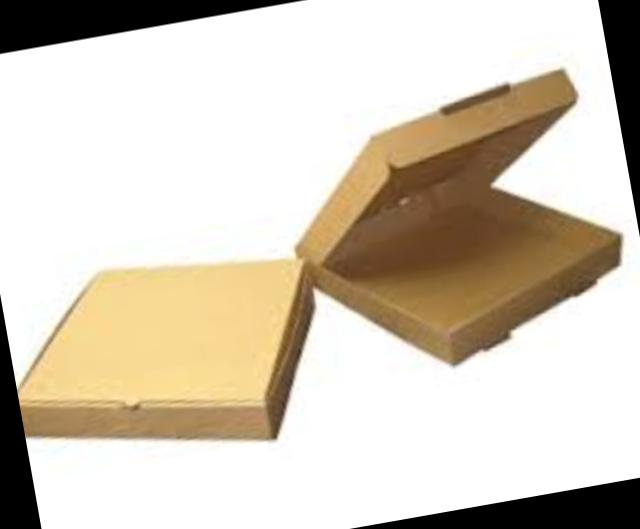cardboard paper: (294, 66, 616, 358), (16, 255, 307, 434)
